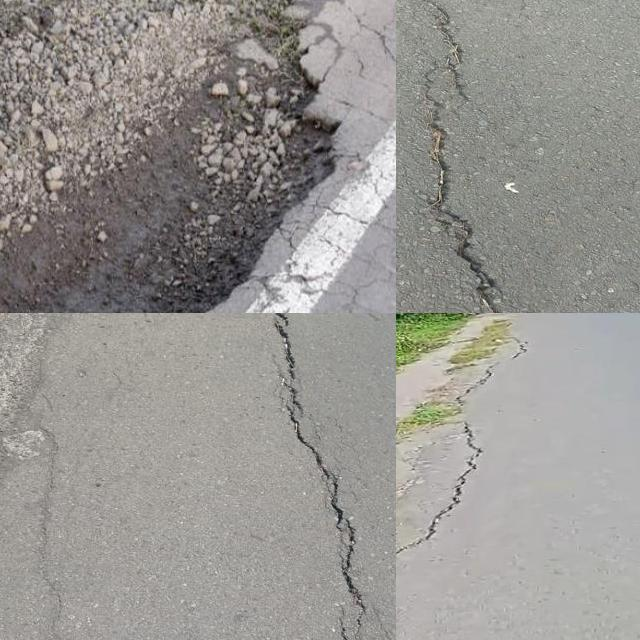Memanjang: (244, 313, 377, 640), (397, 0, 530, 313), (396, 351, 529, 568)
Pinggir: (0, 0, 339, 313)
